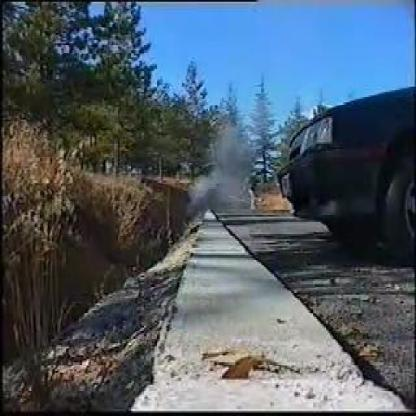-: (190, 140, 244, 215)
